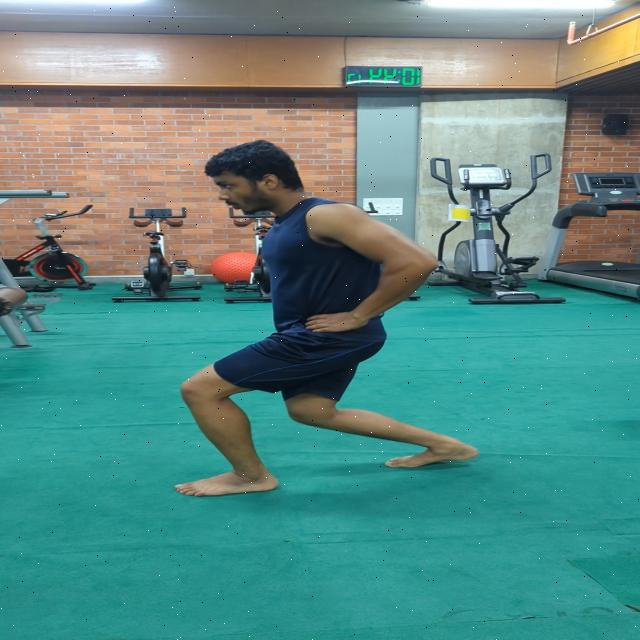Normal_Lunges: (111, 137, 492, 503)
